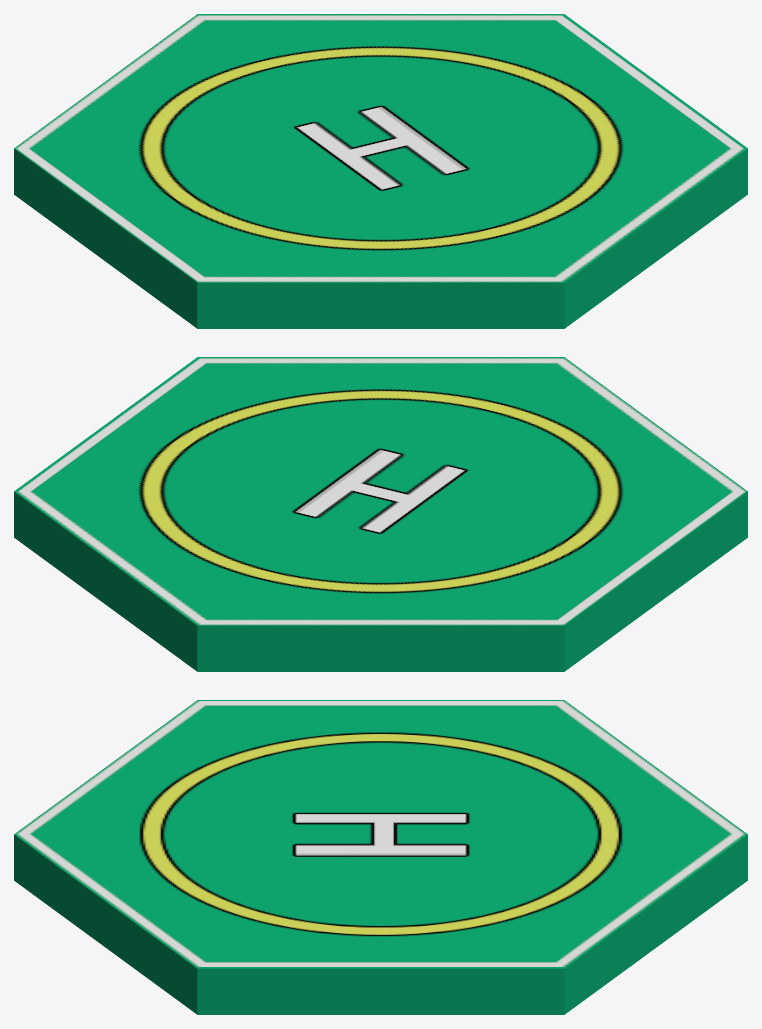
The model's file is Helipuerto.obj.
The picture shows the model from 3 angles, top to bottom: view 1: azimuth 30°, elevation 25°; view 2: azimuth 150°, elevation 25°; view 3: azimuth 270°, elevation 25°; orthographic projection.
Parts seen in each view (by area): view 1: Circle; view 2: Circle; view 3: Circle.
Part boxes in pixels (<box>): Circle: <box>14,14,747,328</box>; Circle: <box>14,357,747,671</box>; Circle: <box>14,700,747,1014</box>.
Bounding box in the file's own units: 12.47 × 1 × 14.4.
1 material, 1 textured.
